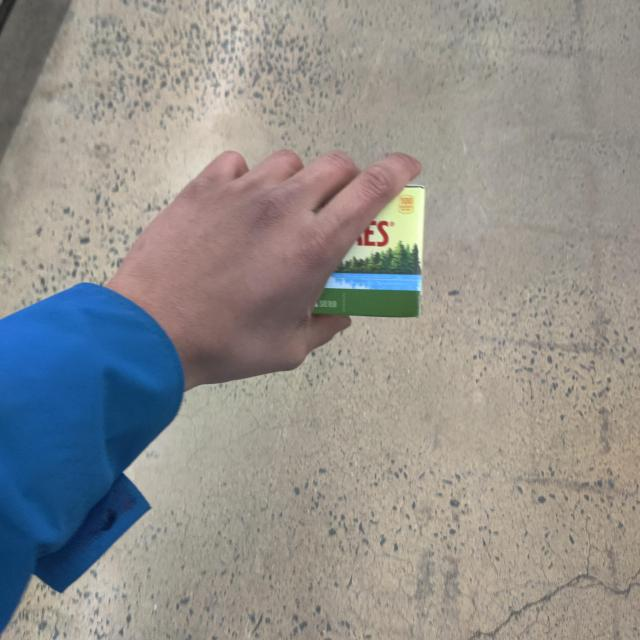Butter: (309, 190, 432, 322)
